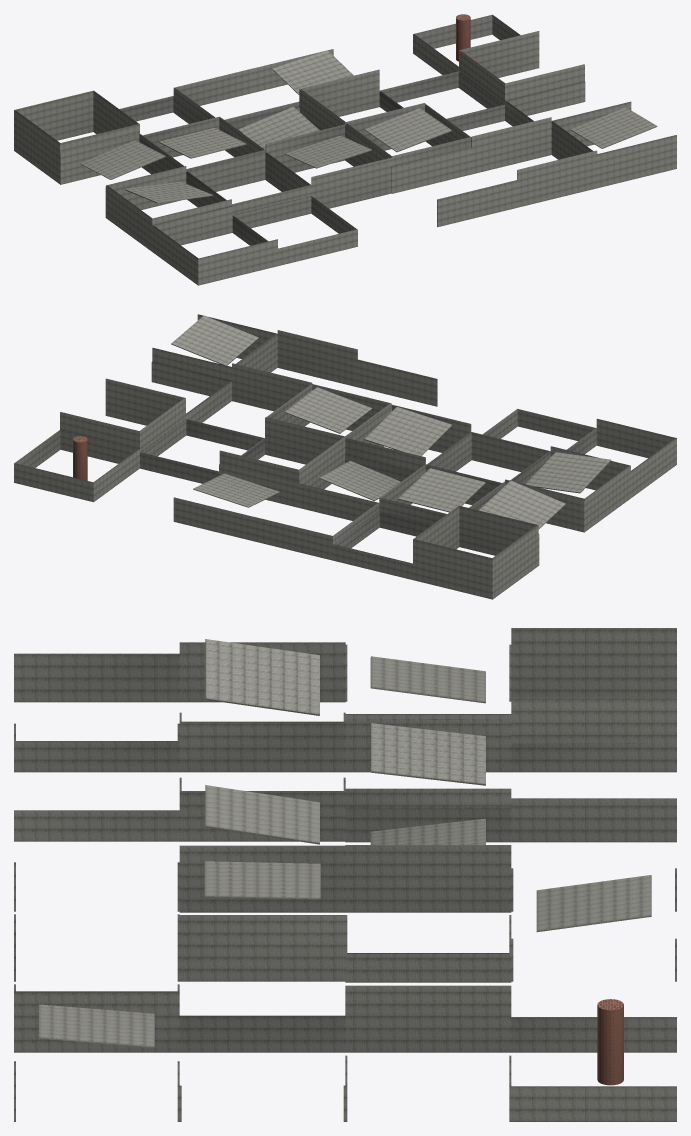
The model's file is ironworks-ruins_lod0.gltf.
The picture shows the model from 3 angles, top to bottom: view 1: azimuth 30°, elevation 25°; view 2: azimuth 150°, elevation 25°; view 3: azimuth 270°, elevation 25°; orthographic projection. The views are drawn at different scales.
Visible parts, largest first — view 1: ironworks-ruins_bays, ironworks-ruins__smokestack; view 2: ironworks-ruins_bays, ironworks-ruins__smokestack; view 3: ironworks-ruins_bays, ironworks-ruins__smokestack.
Part boxes in pixels (x1=…): ironworks-ruins_bays: x1=14, y1=14, x2=676, y2=285; ironworks-ruins__smokestack: x1=456, y1=14, x2=470, y2=61; ironworks-ruins_bays: x1=14, y1=314, x2=676, y2=599; ironworks-ruins__smokestack: x1=73, y1=436, x2=87, y2=480; ironworks-ruins_bays: x1=14, y1=628, x2=676, y2=1121; ironworks-ruins__smokestack: x1=597, y1=999, x2=623, y2=1085.
Bounding box in the file's own units: 300 × 25 × 200.
